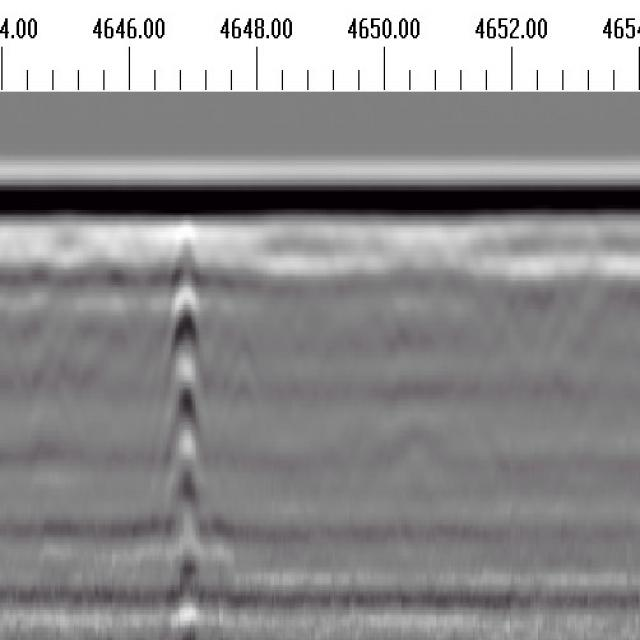crack: (173, 219, 200, 621)
